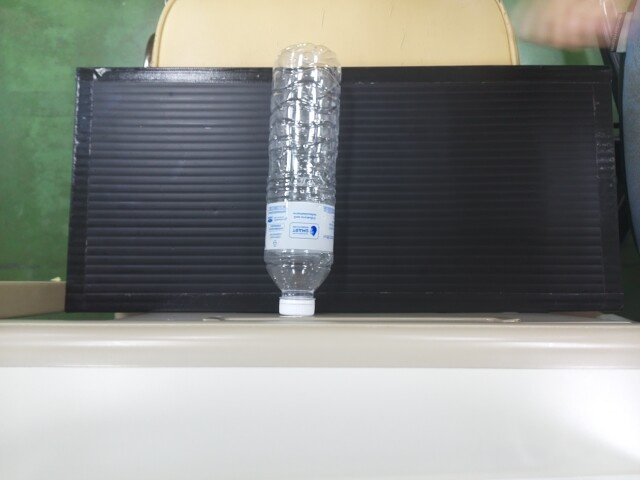plastic_bottle: (268, 46, 336, 314)
